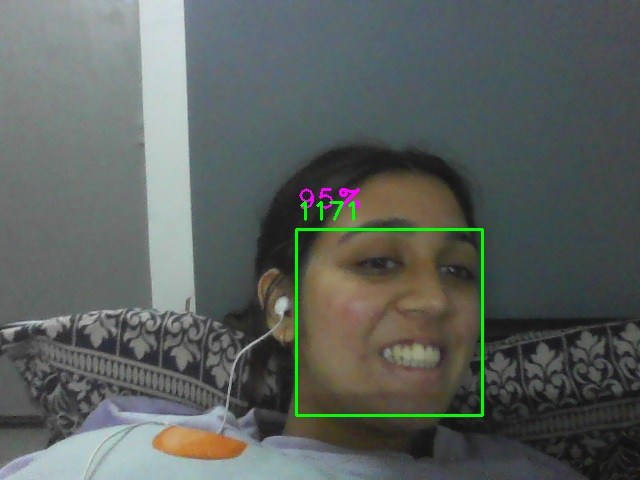real: (296, 229, 483, 416)
